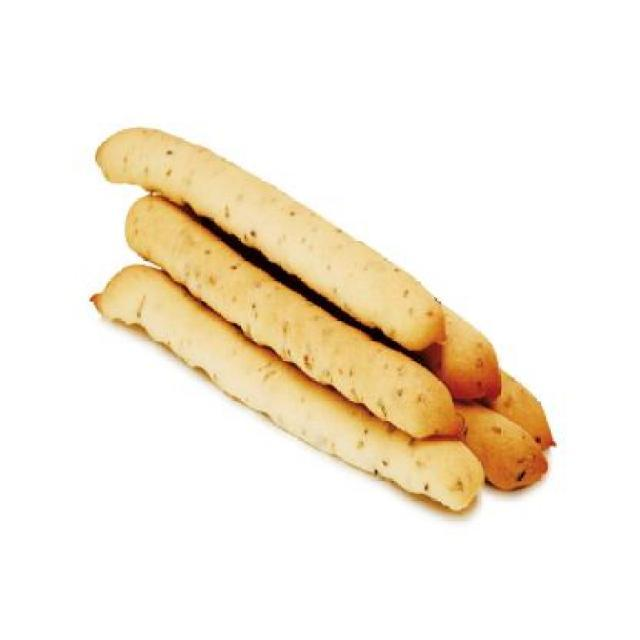Grissini: (87, 127, 558, 513)
